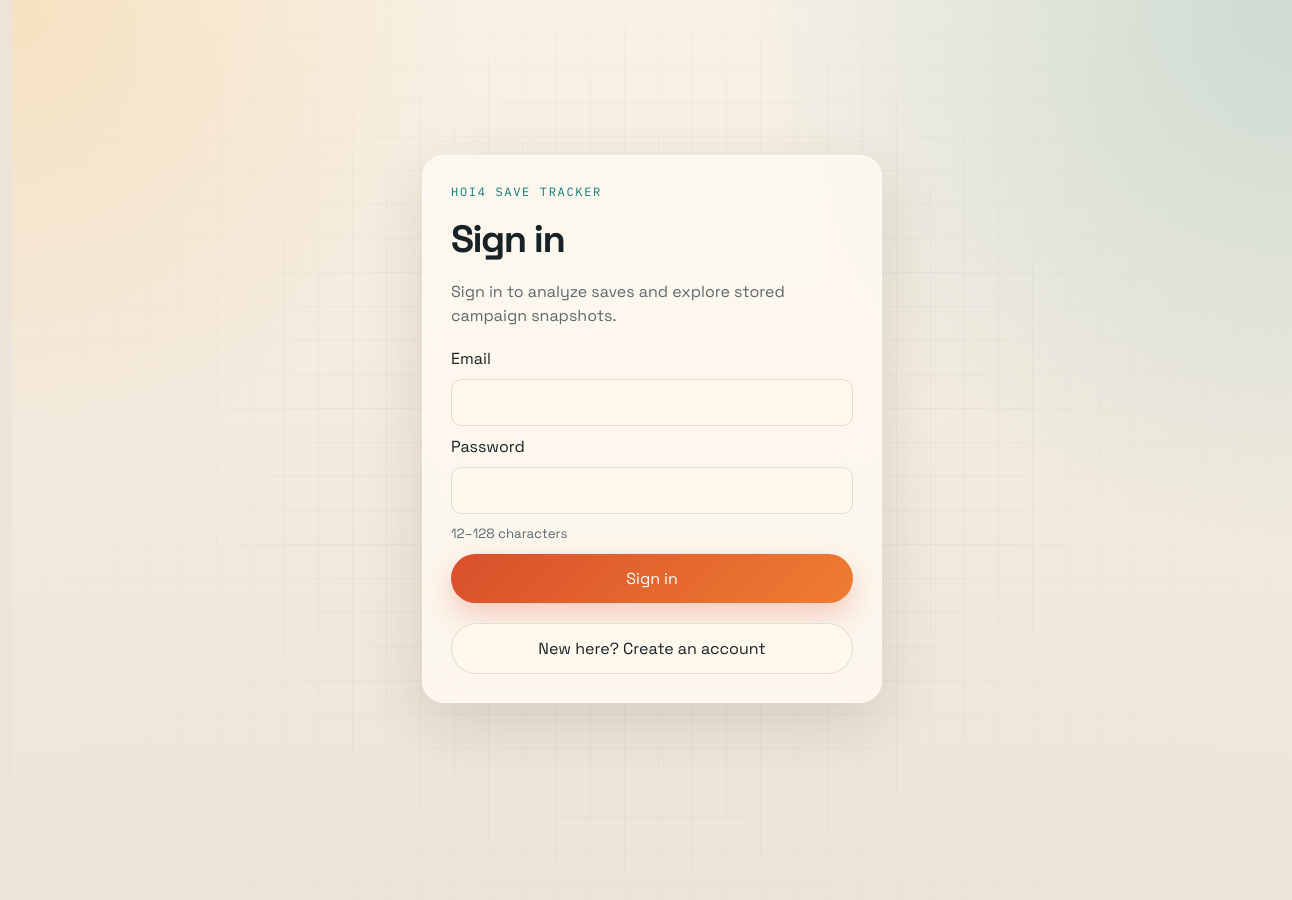
Scenario: frontend authentication boundary › registration uses the same protected auth flow
Click the button "New here? Create an account" at (652, 649), box [451, 623, 853, 674]
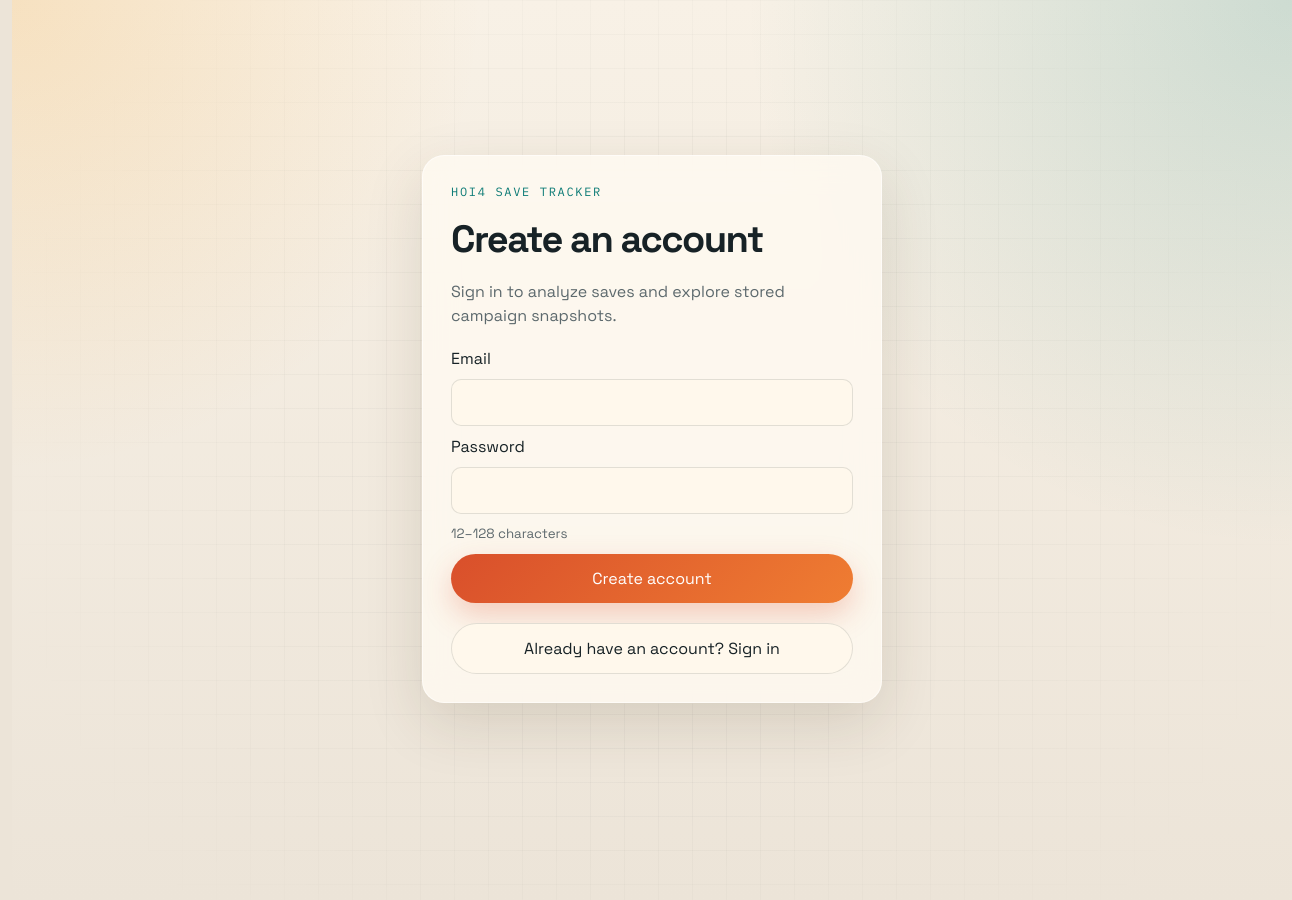
Type "user@example.com" into the field named "email" at (652, 403), box [451, 379, 853, 426]
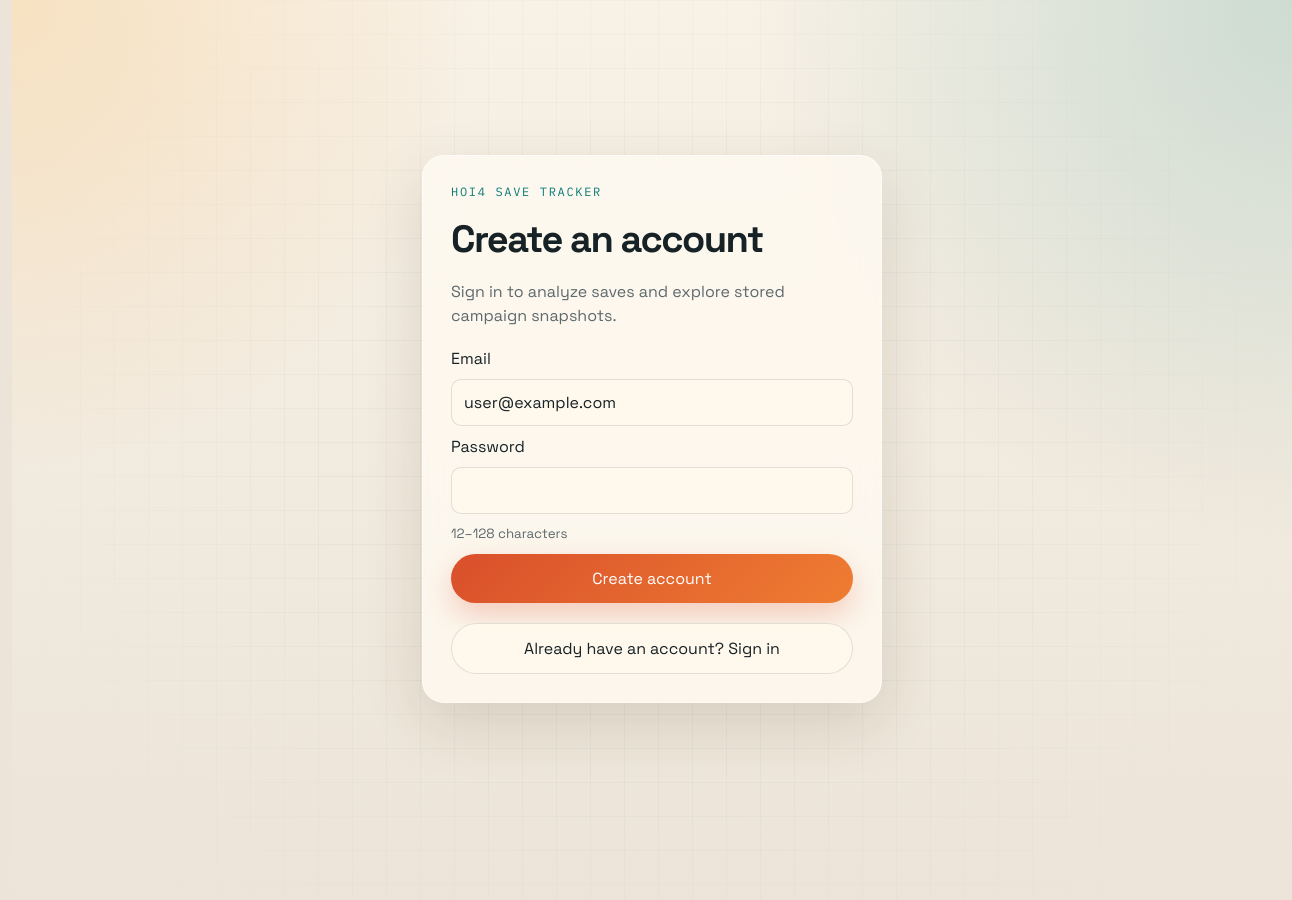
Type "correct horse battery staple" into the password field named "password" at (652, 491), box [451, 467, 853, 514]
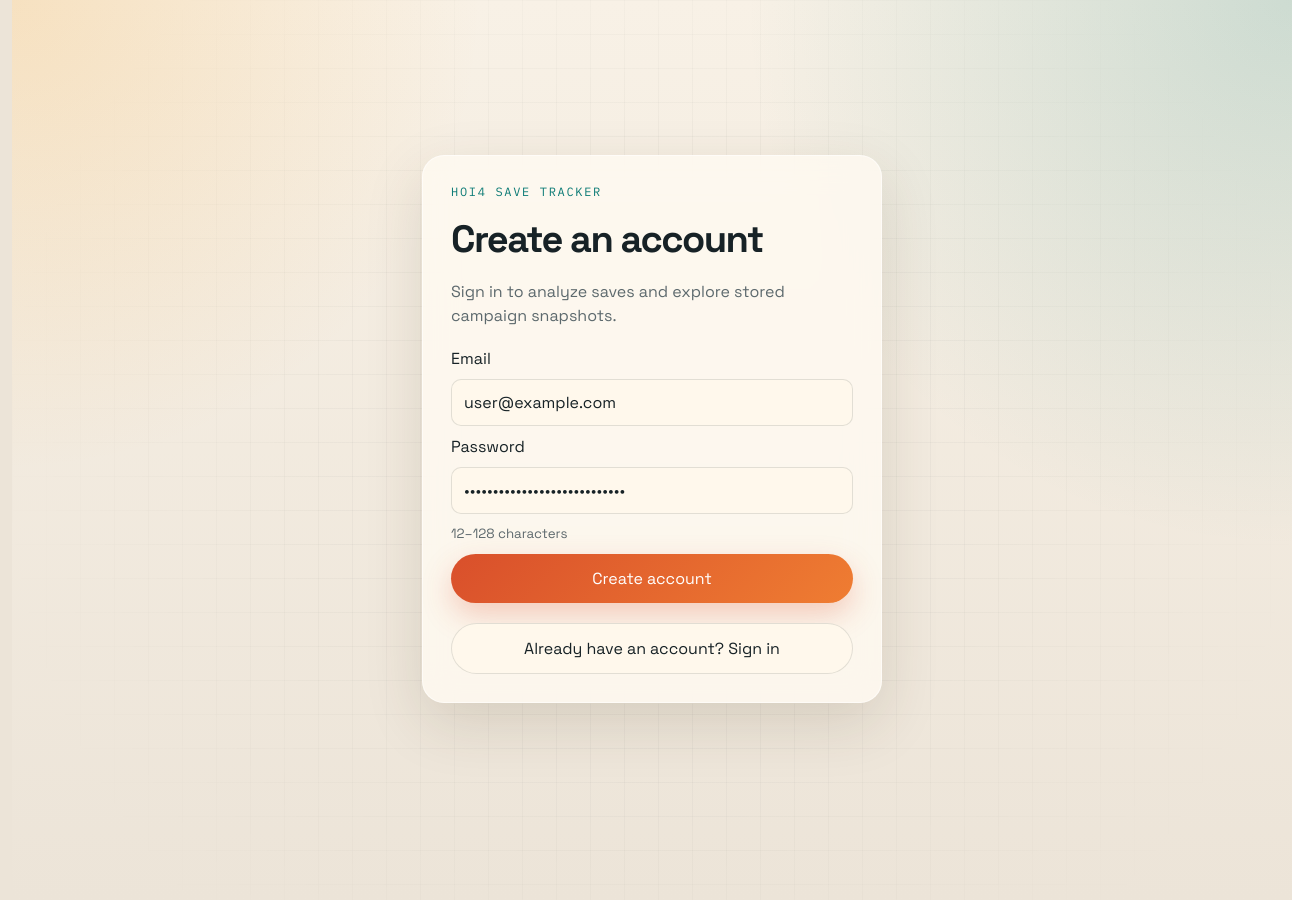
Submit the form, box [451, 348, 853, 603]
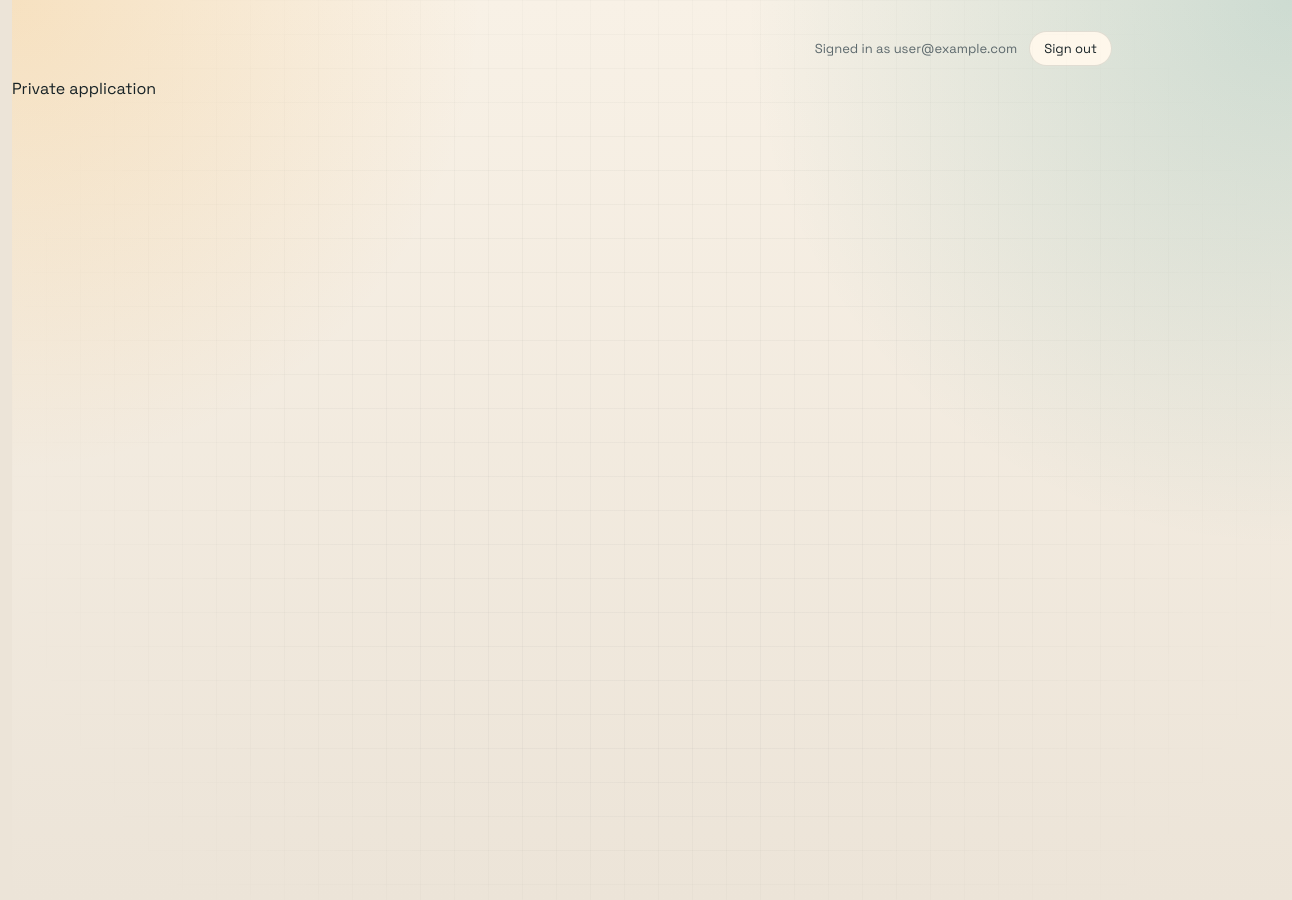
Check: the text "Private application" is shown, box [12, 78, 156, 99]
